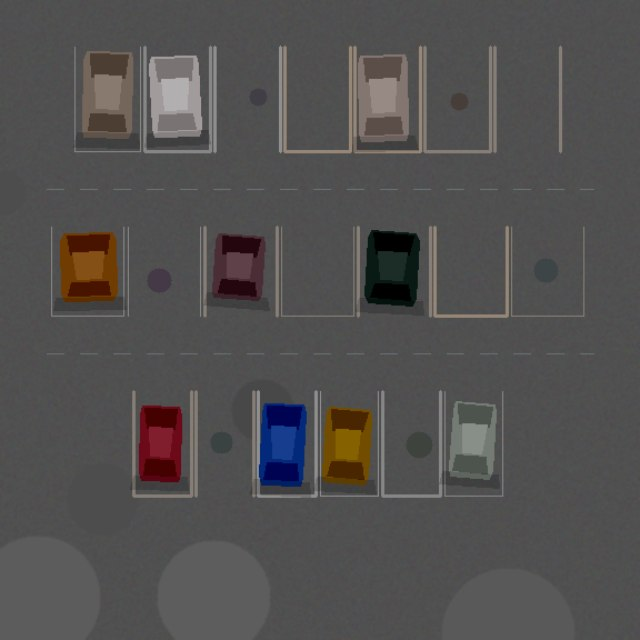space-empty: (214, 47, 280, 151), (284, 47, 350, 151), (424, 47, 490, 151), (494, 47, 560, 151), (434, 227, 507, 316), (128, 227, 200, 316), (281, 227, 353, 316), (511, 227, 583, 316), (382, 391, 440, 496), (196, 391, 253, 496)
space-occupied: (74, 47, 140, 151), (144, 47, 210, 151), (354, 47, 420, 151), (204, 227, 277, 316), (51, 227, 123, 316), (358, 227, 430, 316), (133, 391, 191, 496), (258, 391, 316, 496), (320, 391, 378, 496), (444, 391, 502, 496)
